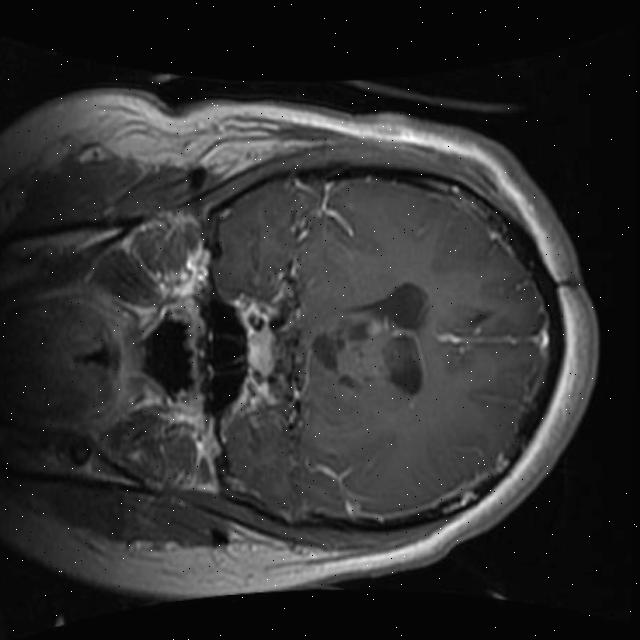Glioma: (332, 331, 392, 392)
Pituitary: (246, 325, 277, 375)
